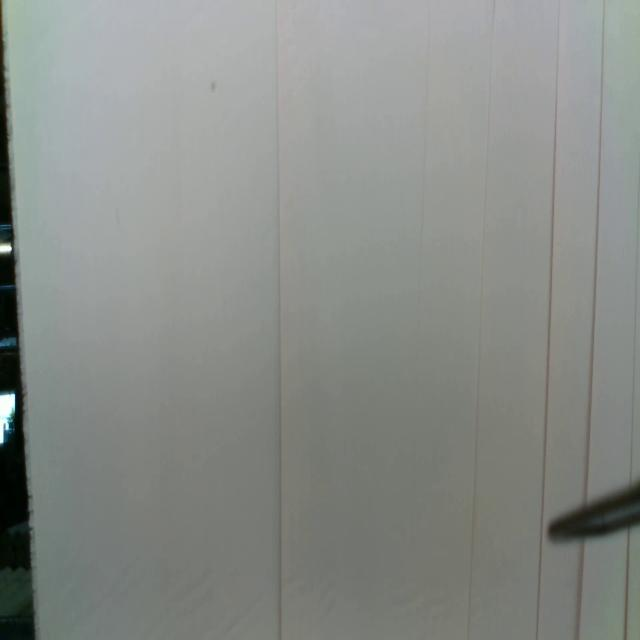crease: (464, 0, 498, 640), (584, 0, 605, 497), (540, 0, 560, 512), (273, 0, 284, 640), (415, 0, 432, 327), (627, 144, 640, 482), (571, 540, 587, 640), (534, 511, 544, 640), (623, 530, 633, 640)
hole: (211, 80, 218, 95)
